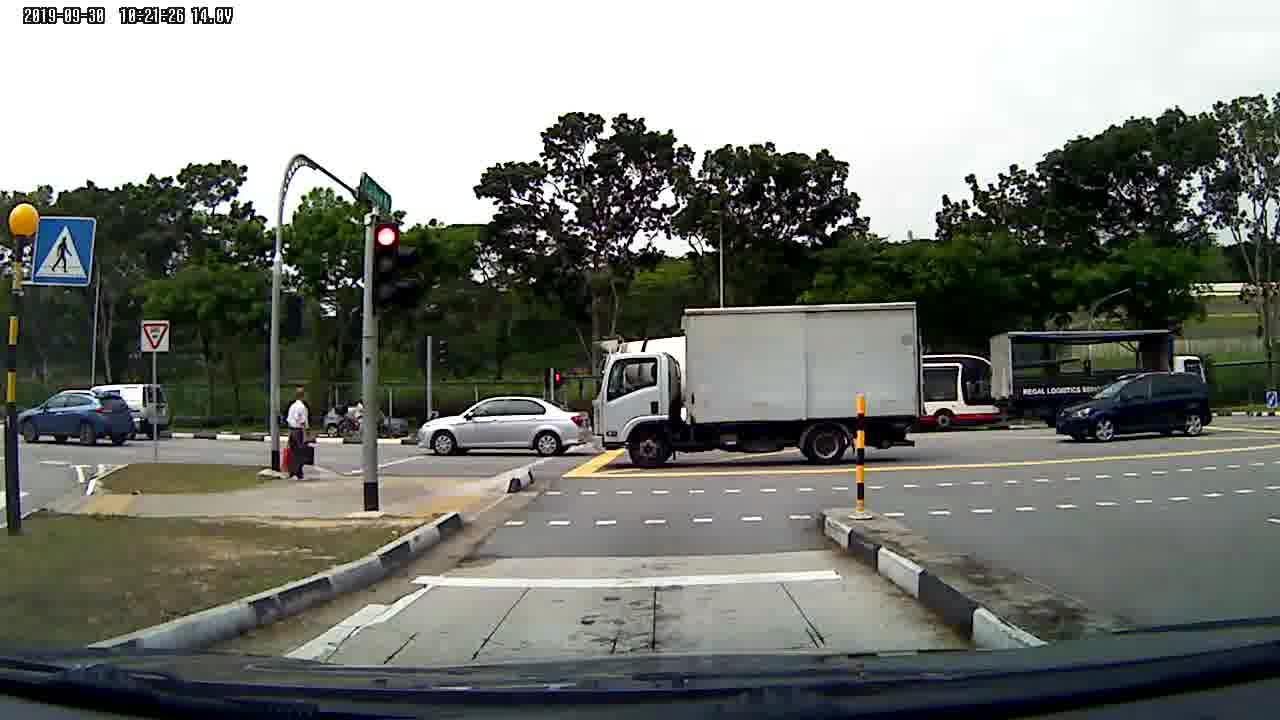bus: (918, 351, 1013, 438)
car: (414, 391, 590, 457), (1056, 375, 1217, 446), (18, 386, 134, 446)
